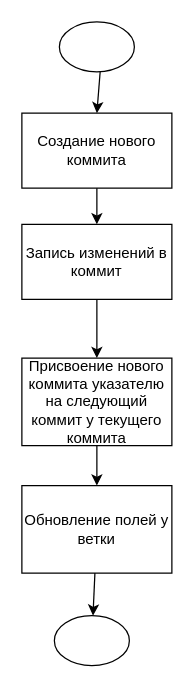
This 194x688 diagram has some shape labels left out. The shapes that lost their labels are listed below. From the top down, each one's box as (x1, y1, x2, y2) in pixels, then its label:
(58, 21, 134, 72): начало
(53, 614, 129, 666): конец
